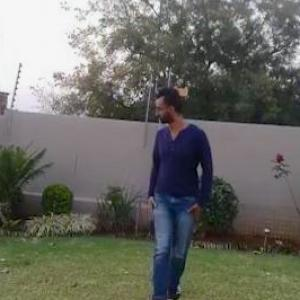follow: (142, 80, 216, 299)
